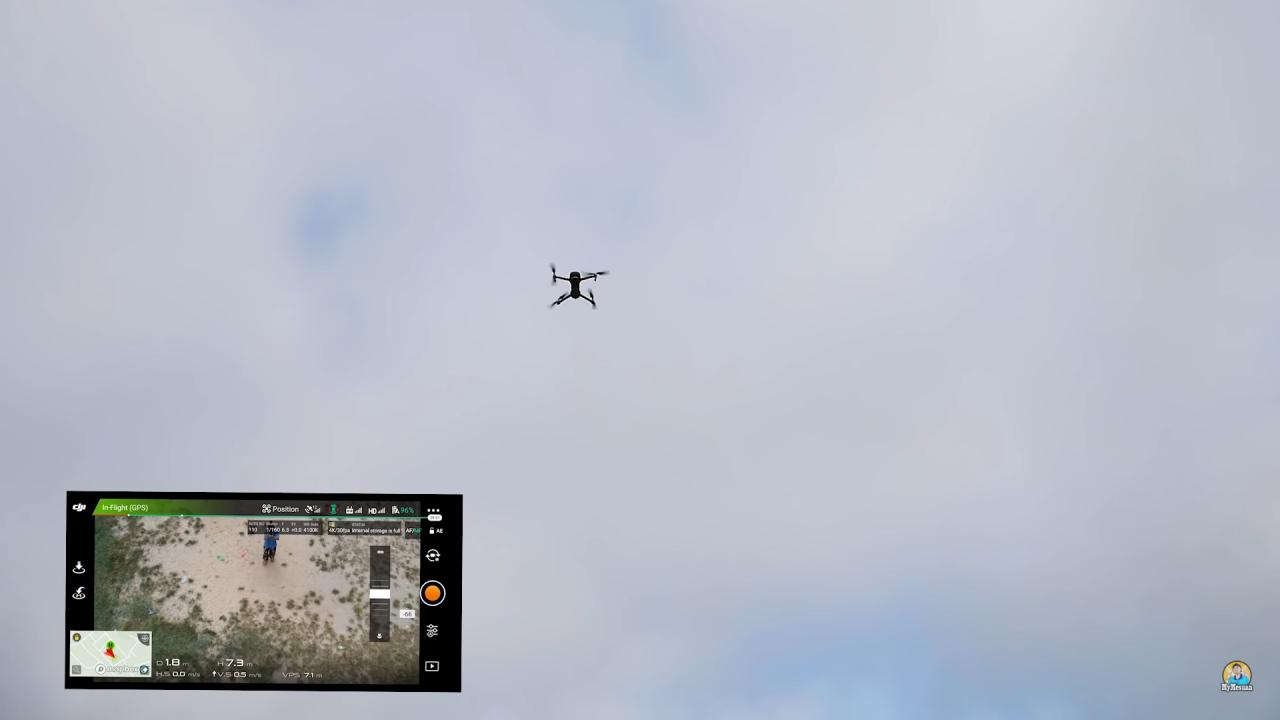Drone: (536, 252, 618, 318)
